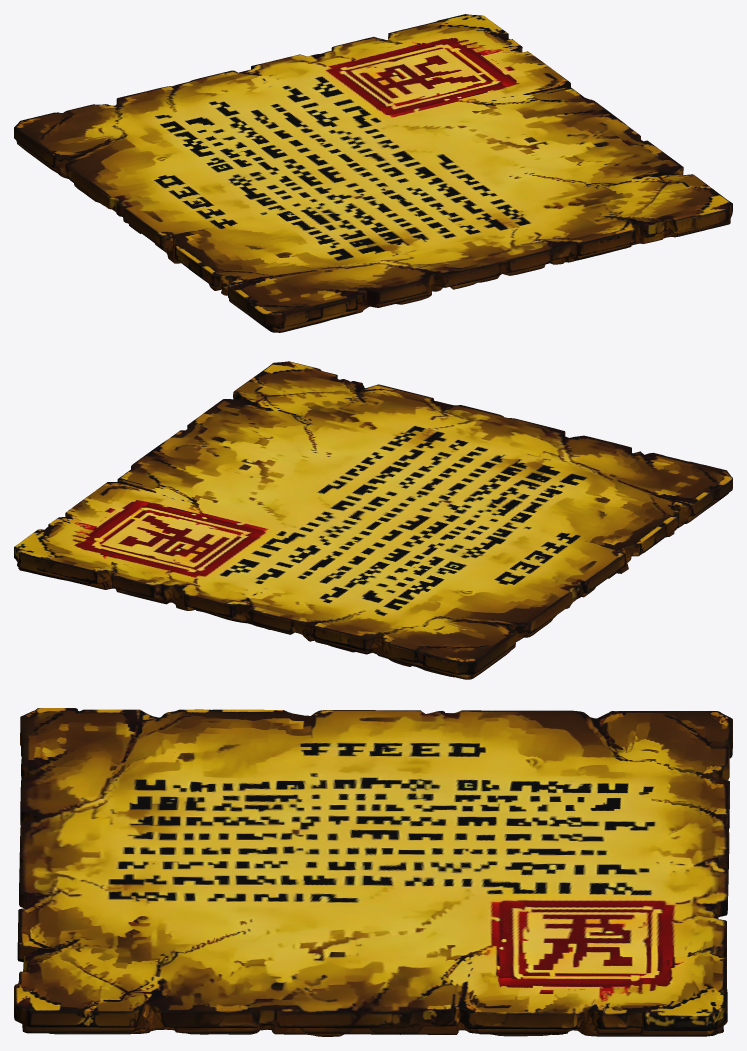
Rendered from Diqi.glb.
3 renders of one model, top to bottom at view 1: azimuth 30°, elevation 25°; view 2: azimuth 150°, elevation 25°; view 3: azimuth 270°, elevation 25°, orthographic. The views are drawn at different scales.
Visible parts, largest first — view 1: tripo_node_c00d79ee-ebe2-4f8a-b768-5fe1b61152f0; view 2: tripo_node_c00d79ee-ebe2-4f8a-b768-5fe1b61152f0; view 3: tripo_node_c00d79ee-ebe2-4f8a-b768-5fe1b61152f0.
Part boxes in pixels (x1,y1,x2,y2): tripo_node_c00d79ee-ebe2-4f8a-b768-5fe1b61152f0: (14, 14, 732, 332); tripo_node_c00d79ee-ebe2-4f8a-b768-5fe1b61152f0: (14, 361, 732, 679); tripo_node_c00d79ee-ebe2-4f8a-b768-5fe1b61152f0: (14, 708, 732, 1036).
Size of the model in its own units: 0.9998 by 0.0461 by 0.9865.
1 material, 1 textured.
